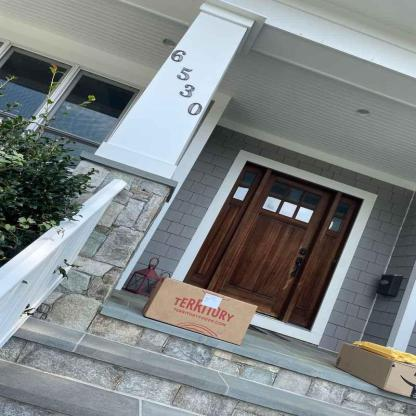label: (199, 291, 224, 310)
package: (143, 275, 258, 349)
